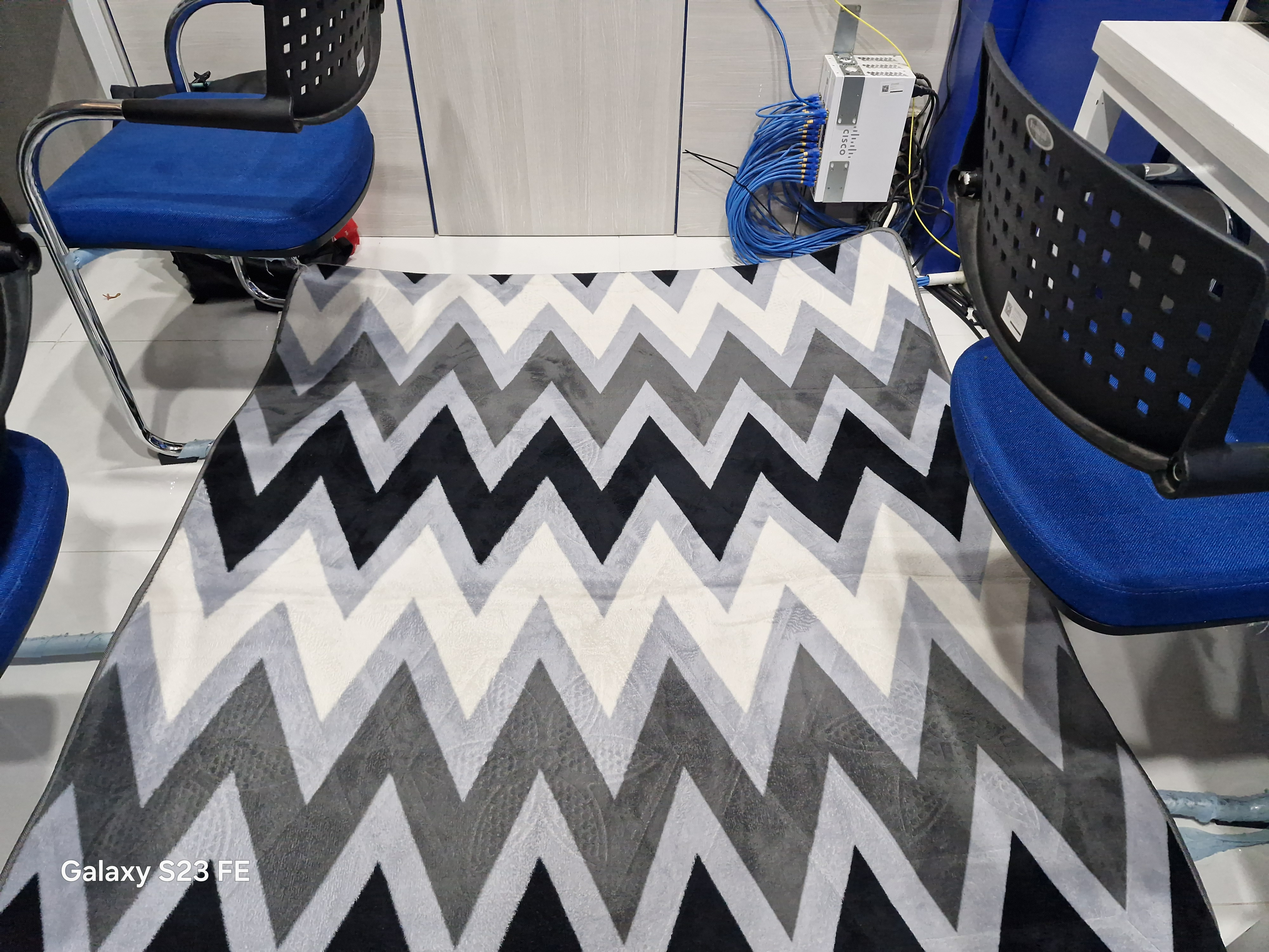cabinet-merged: (372, 0, 825, 238)
chair: (952, 28, 1268, 633), (17, 0, 382, 461), (0, 429, 67, 674)
floor-other-merged: (0, 271, 271, 885), (1045, 585, 1268, 951), (896, 230, 989, 382), (245, 267, 293, 297)
rug-merged: (4, 232, 1221, 951)
table-merged: (1091, 19, 1268, 190)
